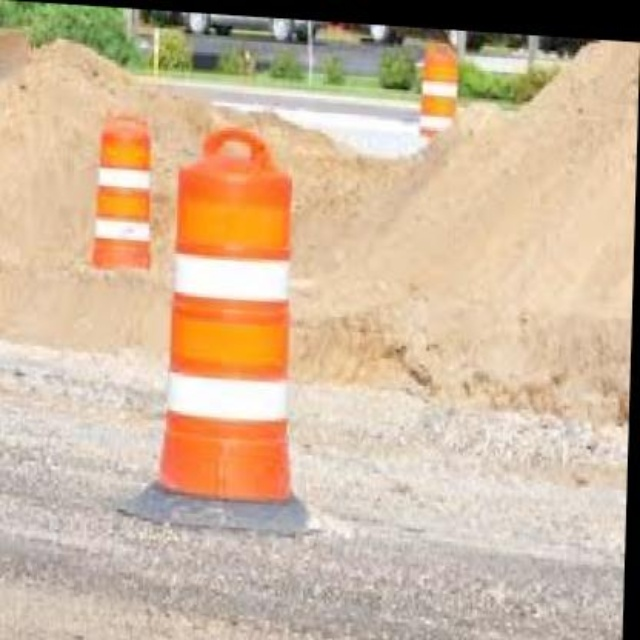obstacle: (157, 120, 301, 509), (89, 117, 155, 274)
